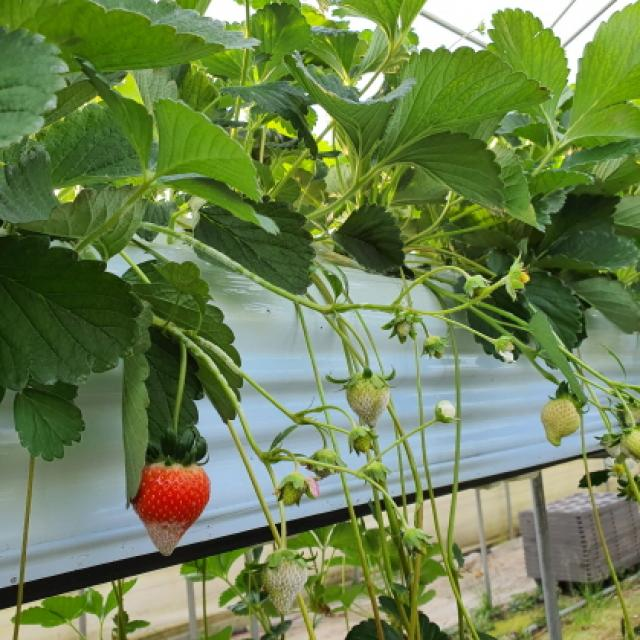Powdery Mildew Fruit: (131, 458, 213, 556), (257, 550, 312, 618), (347, 371, 391, 425)
